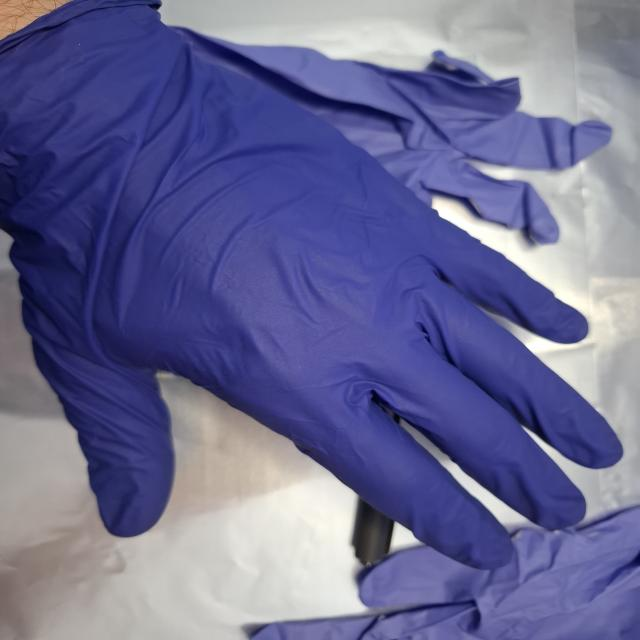glove_on: (0, 1, 625, 572)
